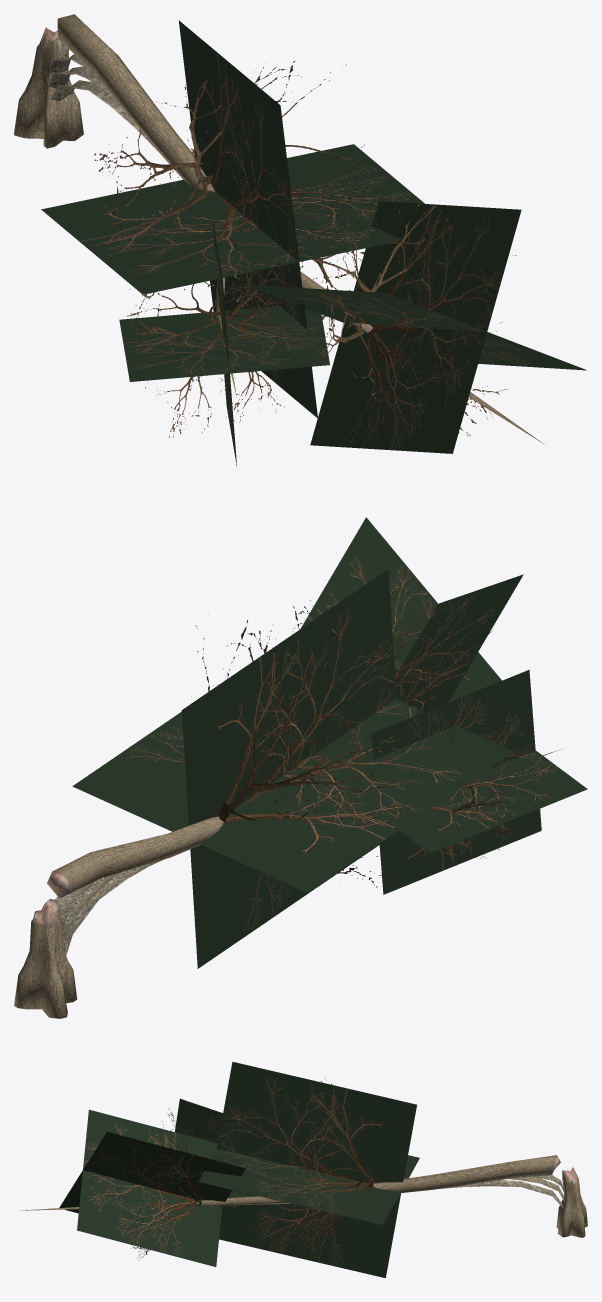
The model's file is decd_maplefallen_l0.fbx.
3 views of the same model, one above another, from view 1: azimuth 30°, elevation 25°; view 2: azimuth 150°, elevation 25°; view 3: azimuth 270°, elevation 25° (orthographic). The views are drawn at different scales.
Visible parts, largest first — view 1: mesh_node; view 2: mesh_node; view 3: mesh_node.
Part boxes in pixels (x1,y1,x2,y2): mesh_node: (14,14,586,466); mesh_node: (14,517,587,1018); mesh_node: (20,1061,587,1277).
Size of the model in its own units: 3.46 by 2.84 by 7.48.
